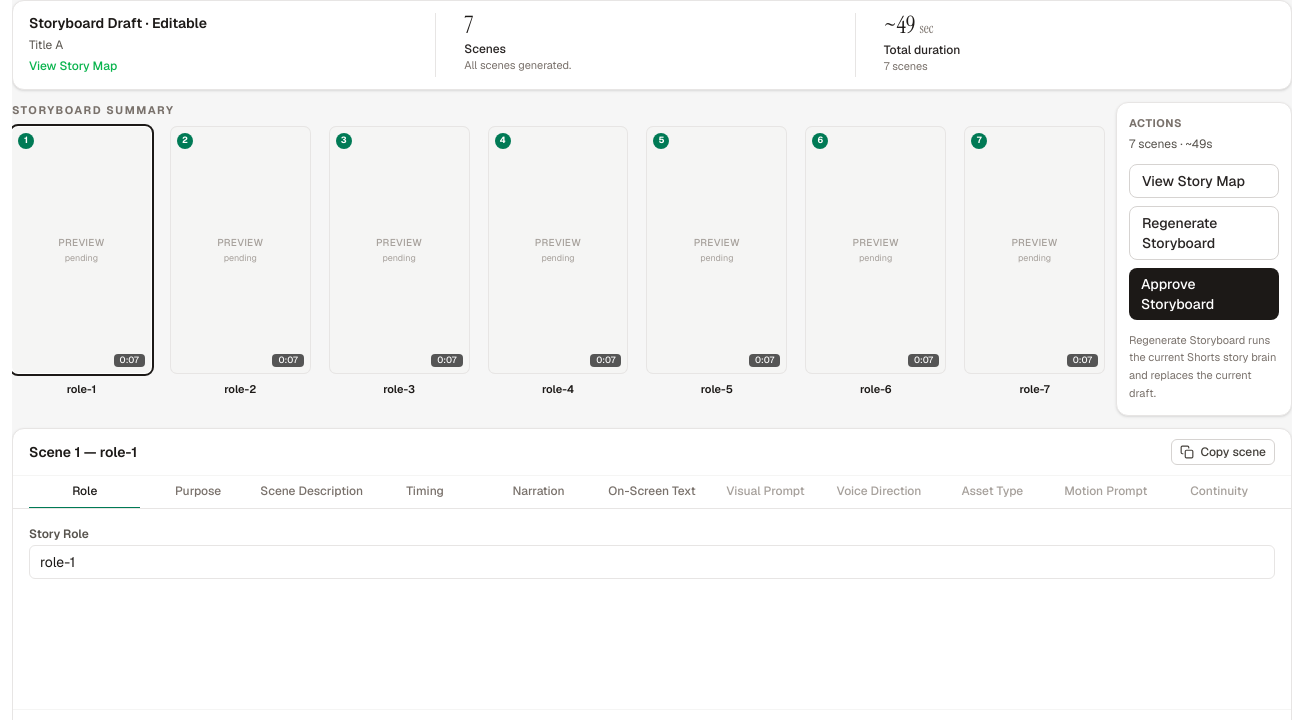
Test: storyboard workspace UI › shows only the active field panel
Click the tab "Purpose".
click(198, 492)  # box [142,476,254,509]
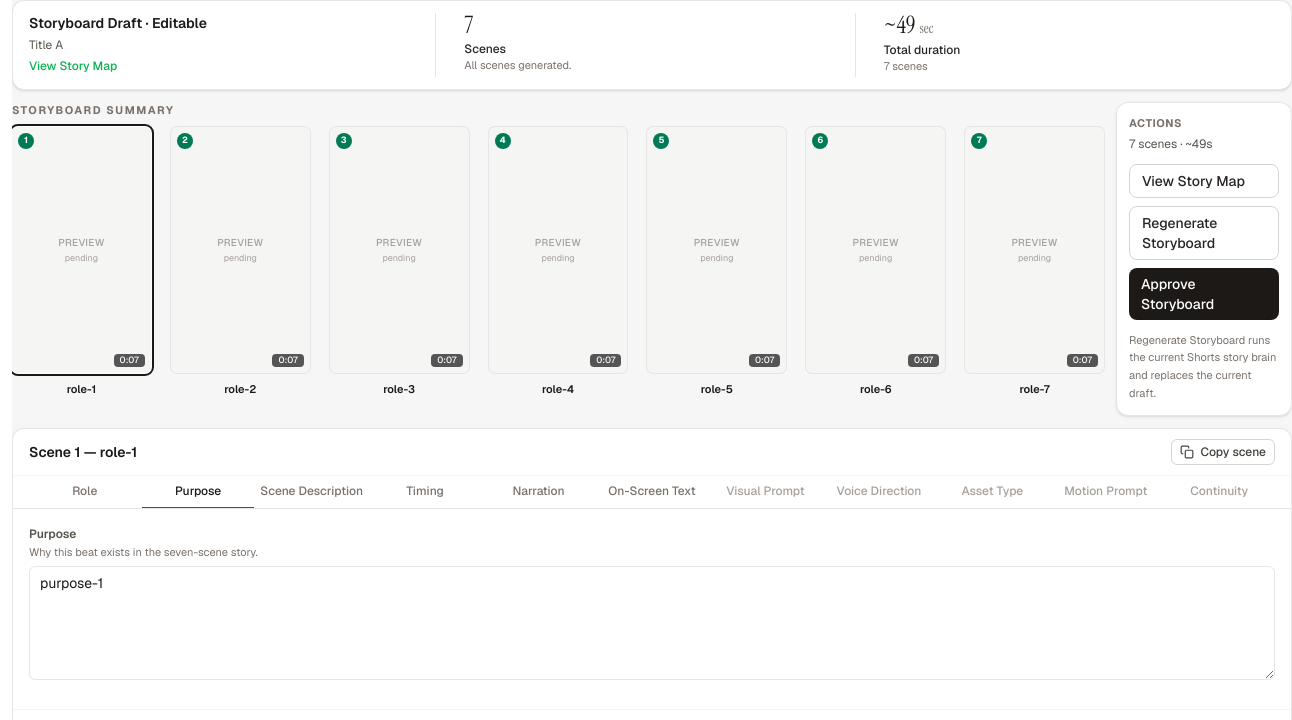
Check: the text box labelled "Purpose Why this beat exists in the seven-scene story." holds "purpose-1", box [29,566,1275,680]
Click the tab "Timing".
click(425, 492)  # box [369,476,481,509]
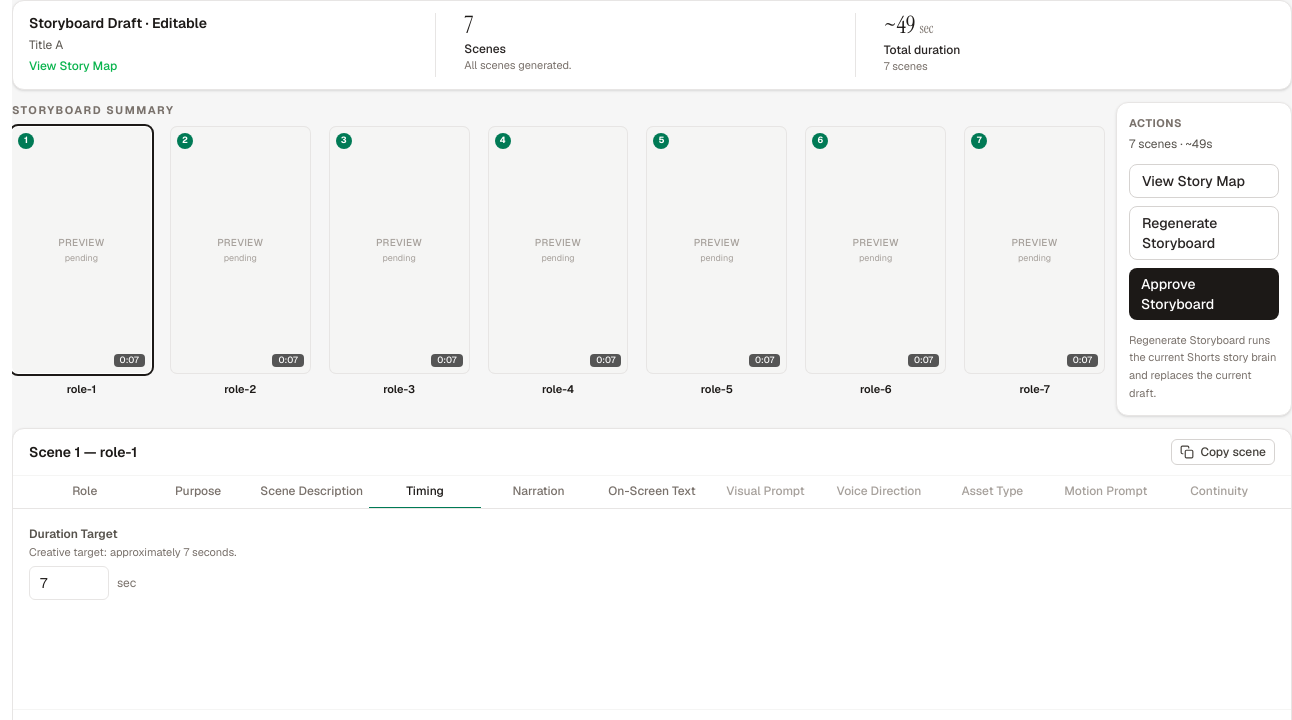
Check: the number field is shown, box [29,566,109,600]
Check: the text box is gone
